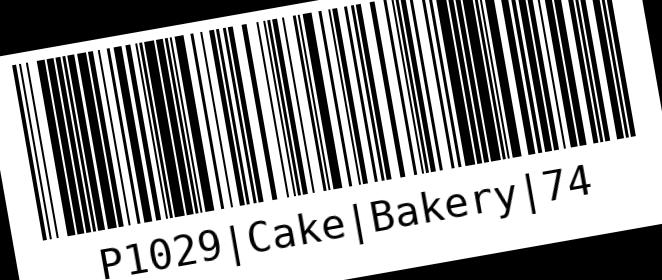milk: (4, 0, 661, 279)
